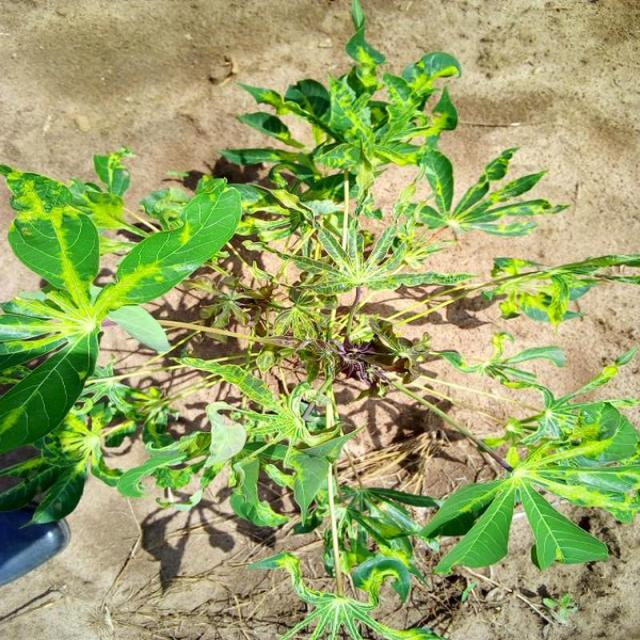cassava leaf: (113, 182, 242, 308)
